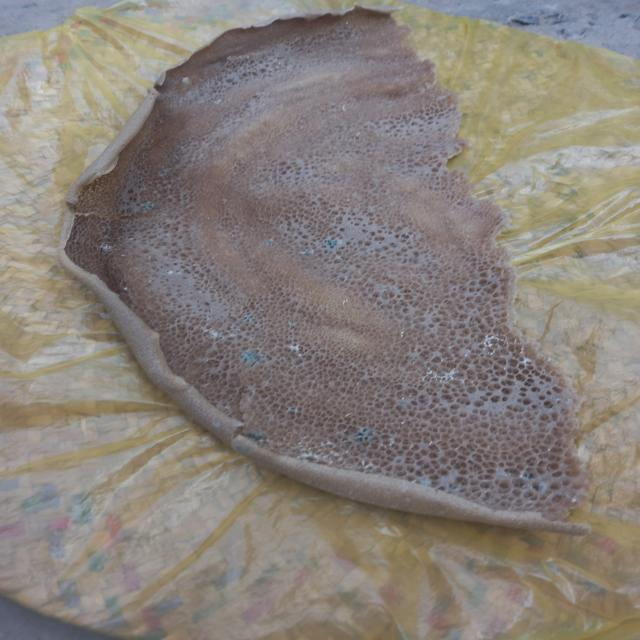injera_mold: (295, 437, 349, 465), (422, 366, 468, 383), (201, 322, 242, 341), (477, 334, 510, 356), (352, 426, 379, 444), (240, 350, 270, 364), (283, 342, 305, 358), (95, 242, 122, 252), (520, 469, 542, 481), (248, 428, 265, 442), (321, 237, 342, 248), (236, 444, 252, 456), (447, 482, 463, 493), (520, 355, 534, 367), (299, 248, 315, 256), (264, 237, 275, 247), (244, 314, 254, 322), (536, 484, 547, 491), (286, 321, 298, 327), (287, 407, 299, 413), (389, 437, 396, 447), (418, 481, 430, 486), (167, 270, 174, 274), (123, 286, 128, 291), (128, 237, 134, 241)
